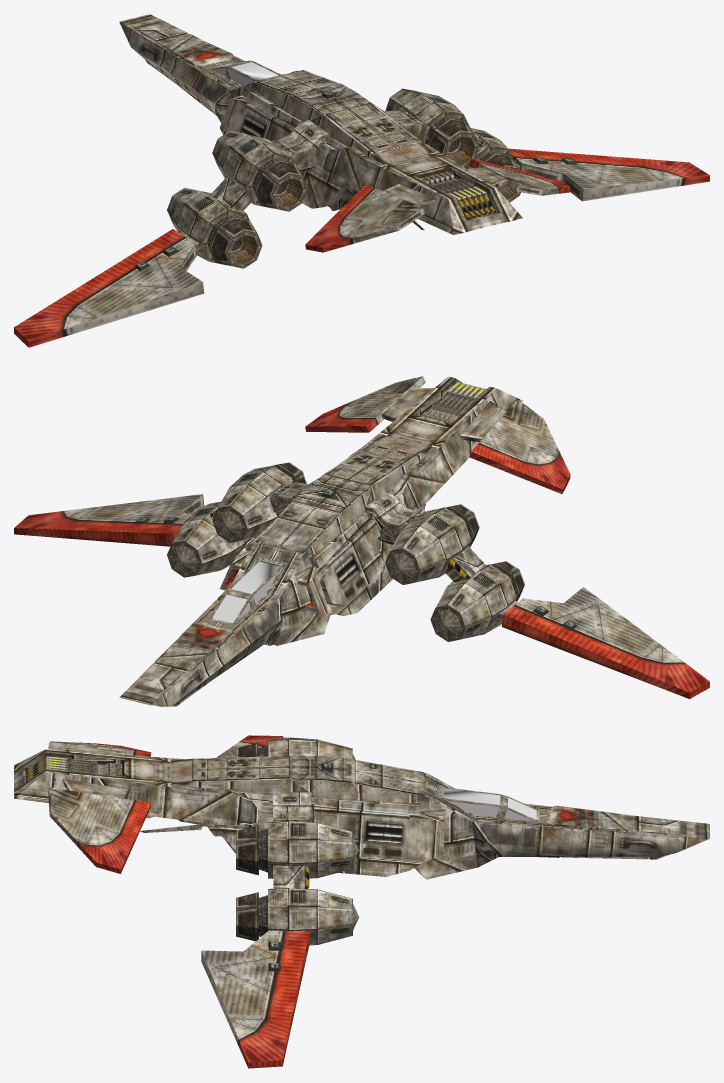
File: Z-5000 Greyhound.fbx
The picture shows the model from 3 angles, top to bottom: view 1: azimuth 30°, elevation 25°; view 2: azimuth 150°, elevation 25°; view 3: azimuth 270°, elevation 25°; orthographic projection.
Parts seen in each view (by area): view 1: Greyhound_hull, Greyhound_glass; view 2: Greyhound_hull, Greyhound_glass; view 3: Greyhound_hull, Greyhound_glass.
Part boxes in pixels (box(x1,y1,x2,y2)): Greyhound_hull: box(14, 14, 709, 347); Greyhound_glass: box(213, 62, 278, 85); Greyhound_hull: box(14, 376, 709, 706); Greyhound_glass: box(212, 561, 278, 622); Greyhound_hull: box(14, 735, 709, 1068); Greyhound_glass: box(444, 789, 536, 820).
Size of the model in its own units: 444 by 91.39 by 399.
Materials: 4 (4 with a texture image).
